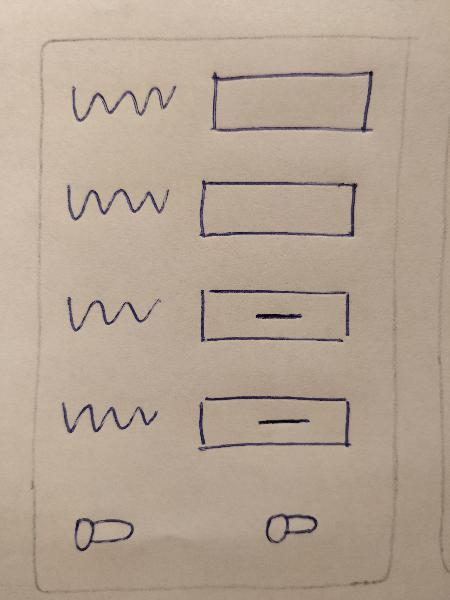button: (192, 388, 358, 459), (195, 281, 357, 352)
switch: (63, 506, 140, 557), (253, 501, 330, 552)
text: (61, 72, 179, 130), (59, 171, 177, 229), (54, 281, 172, 339), (53, 388, 171, 446)
text_input: (204, 66, 378, 146), (193, 168, 367, 248)
